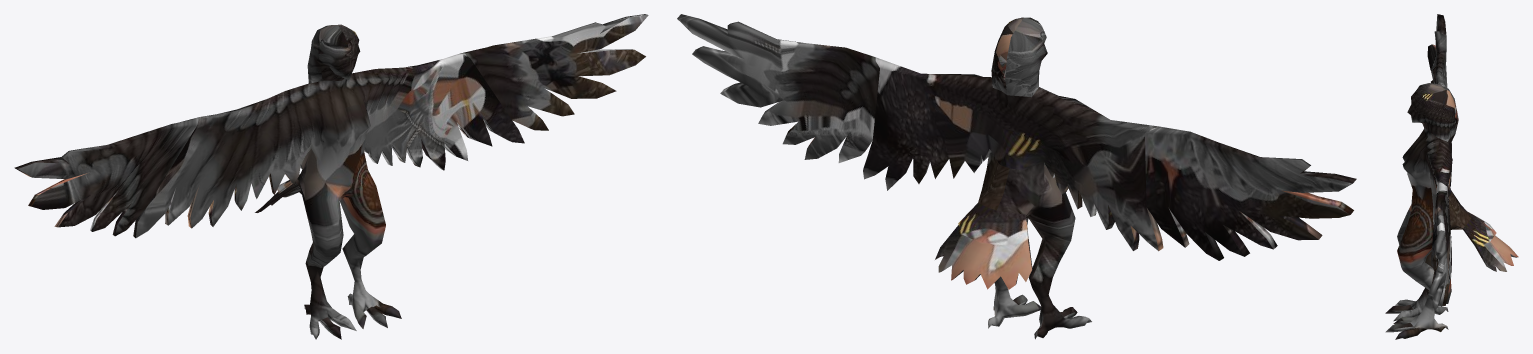
The model's file is 151-harpy.glb.
The picture shows the model from 3 angles, left to right: view 1: azimuth 30°, elevation 25°; view 2: azimuth 150°, elevation 25°; view 3: azimuth 270°, elevation 25°; orthographic projection. The views are drawn at different scales.
Bounding box in the file's own units: 4.3 × 1.88 × 0.9546.
Materials: 1 (1 with a texture image).
